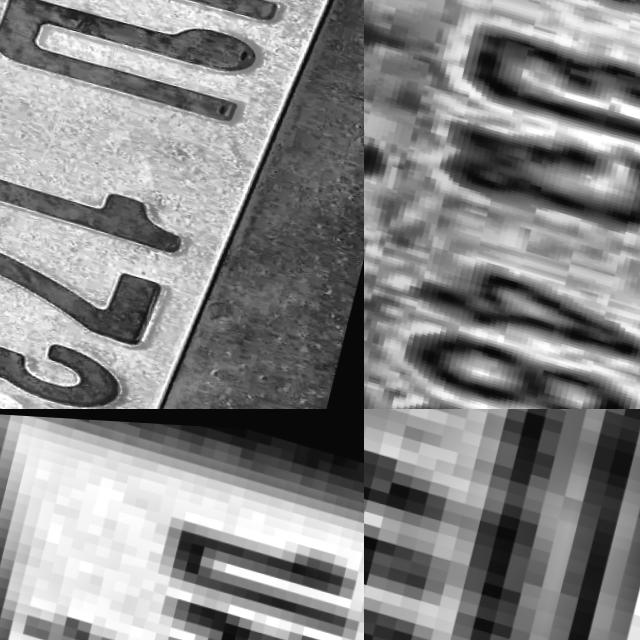license-plate: (0, 0, 364, 409), (364, 0, 640, 409), (0, 409, 364, 640), (364, 409, 640, 640)
